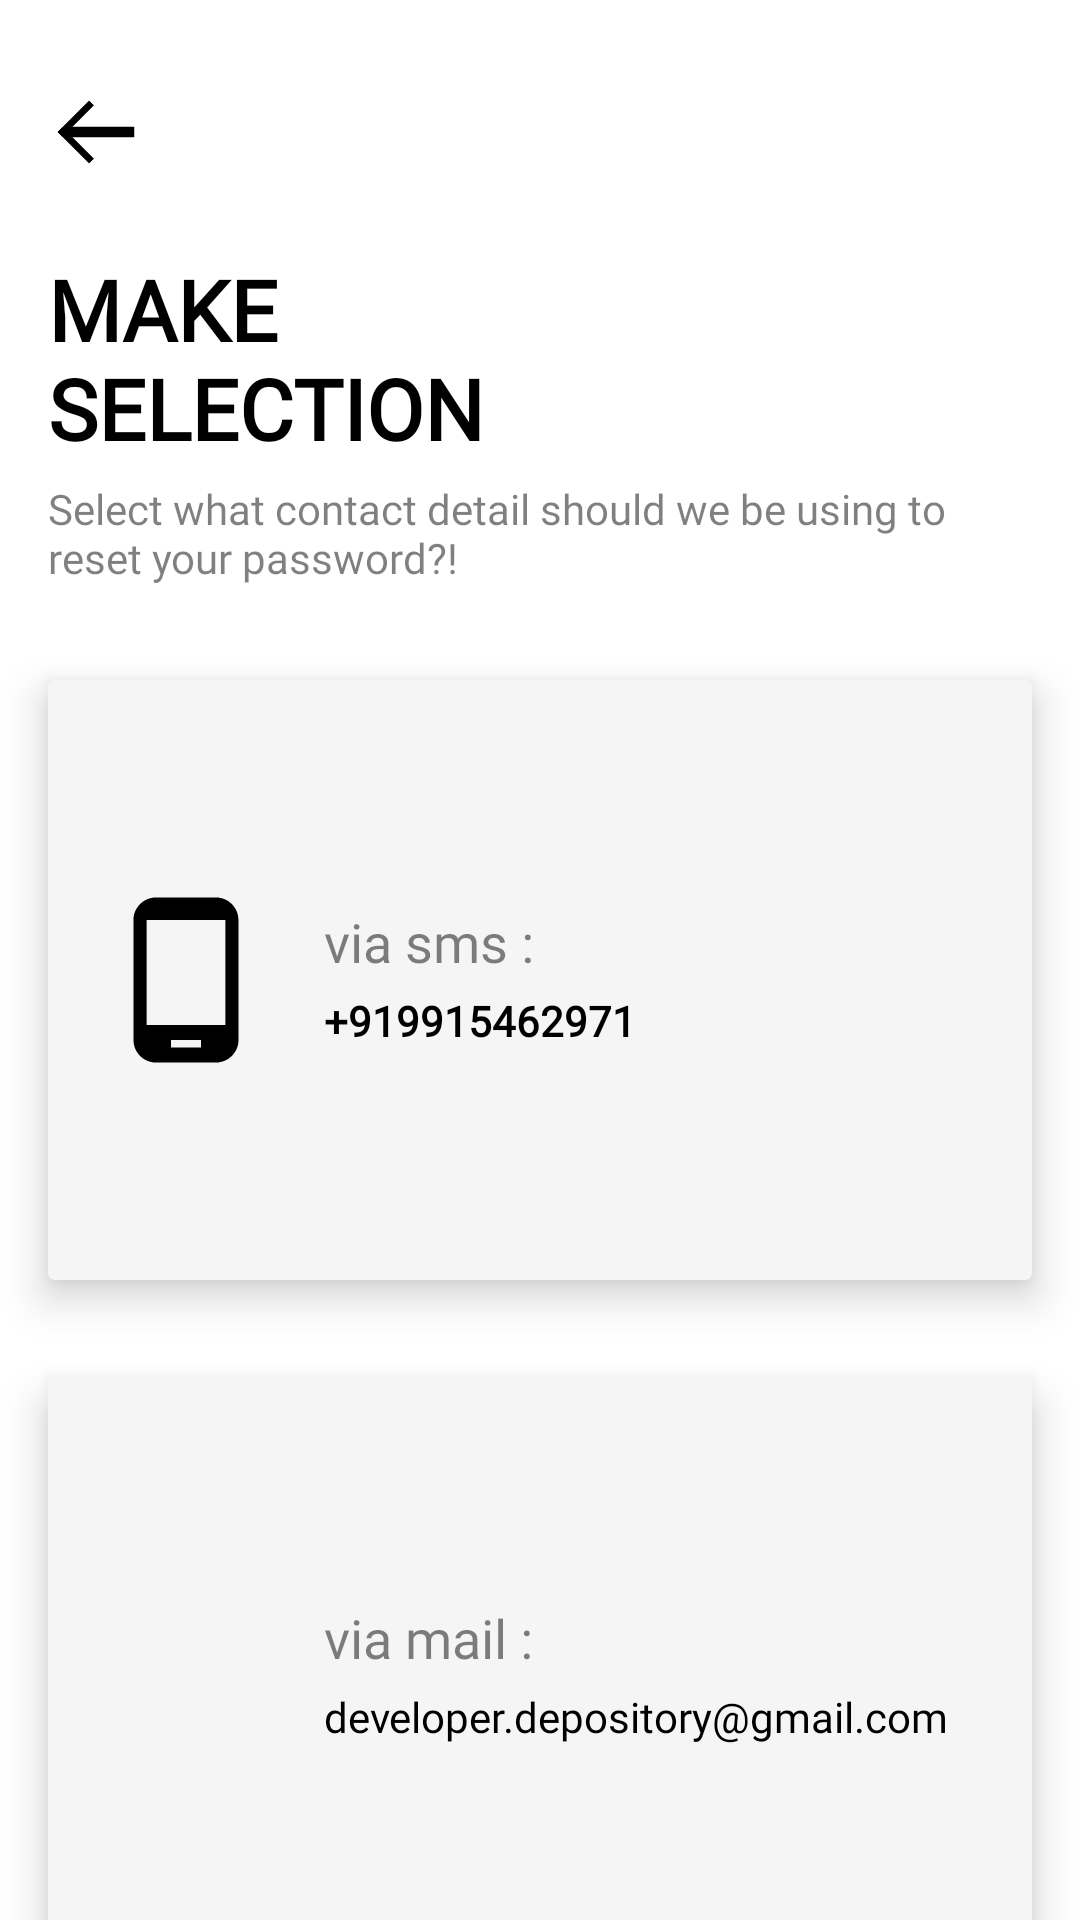

Icons on this 1080 × 1920 Android screen, each with the point to tap as point (x, y):
back arrow: point (96, 132)
mobile: point (186, 980)
